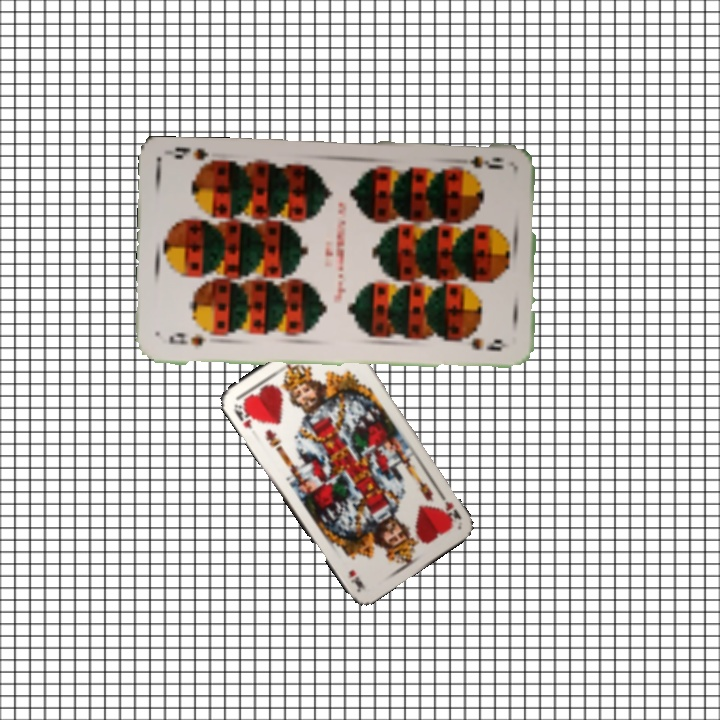HK: (434, 488, 464, 523), (229, 399, 256, 432)
S9: (453, 152, 506, 176), (165, 330, 209, 349)
